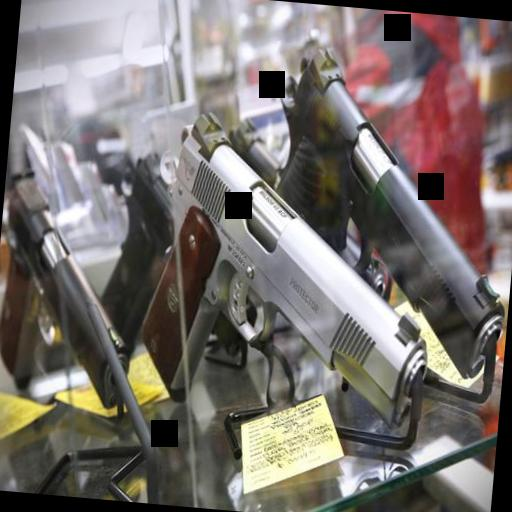Handgun: (104, 100, 449, 430), (244, 33, 512, 375), (0, 153, 187, 465)
